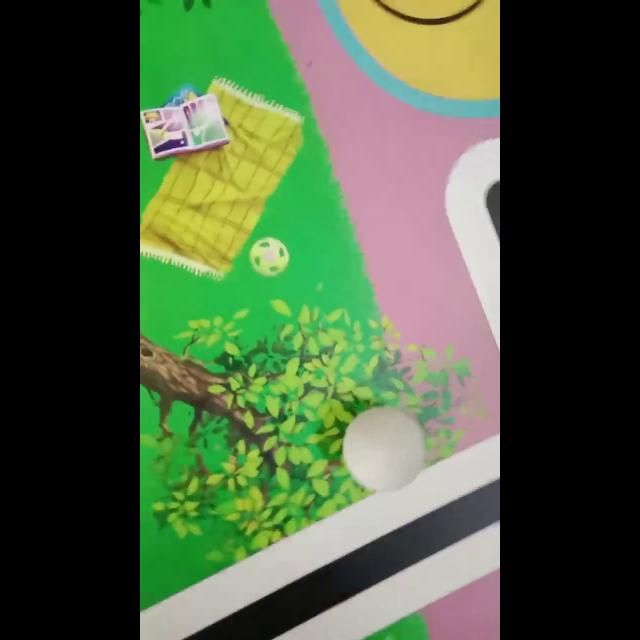white ball: (342, 404, 426, 492)
